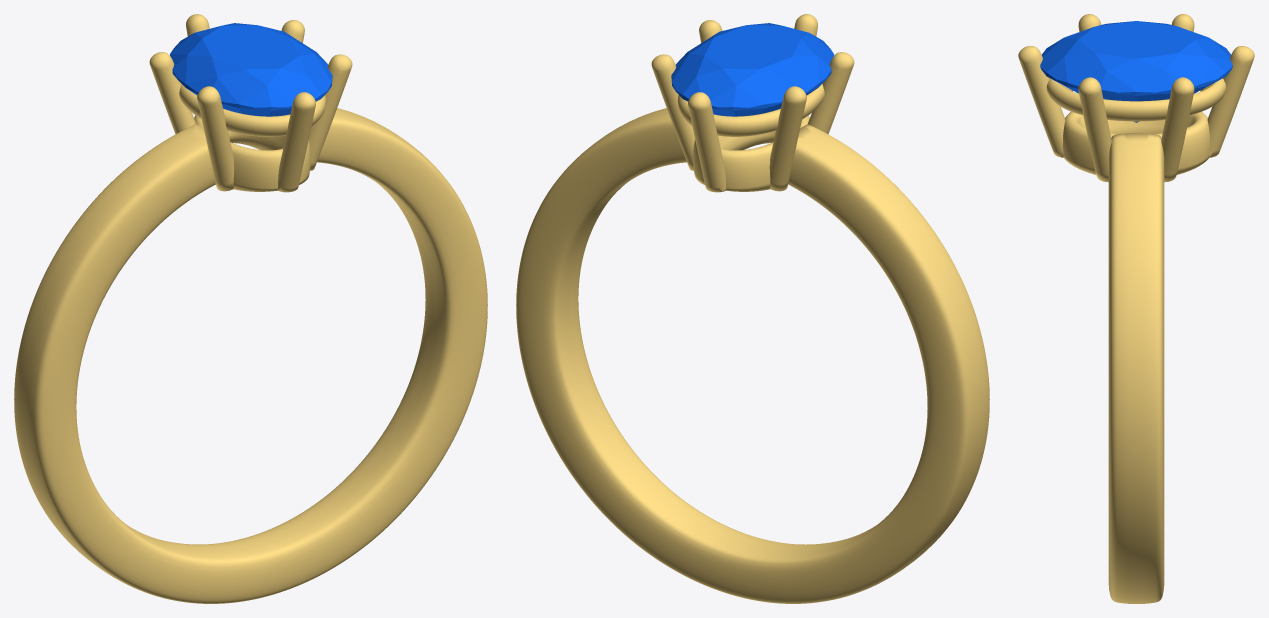
The model's file is bluesapphire-oval-yellowgold-6prong-straightband-nosidestones.glb.
3 views of the same model, side by side, from view 1: azimuth 30°, elevation 25°; view 2: azimuth 150°, elevation 25°; view 3: azimuth 270°, elevation 25° (orthographic).
Parts seen in each view (by area): view 1: metal, stone; view 2: metal, stone; view 3: metal, stone.
Part boxes in pixels (x1,y1,x2,y2): metal: (14, 14, 487, 603); stone: (170, 23, 332, 116); metal: (516, 14, 989, 603); stone: (671, 23, 833, 116); metal: (1018, 14, 1254, 603); stone: (1040, 21, 1232, 122).
Size of the model in its own units: 20.5 by 23.41 by 9.29.
